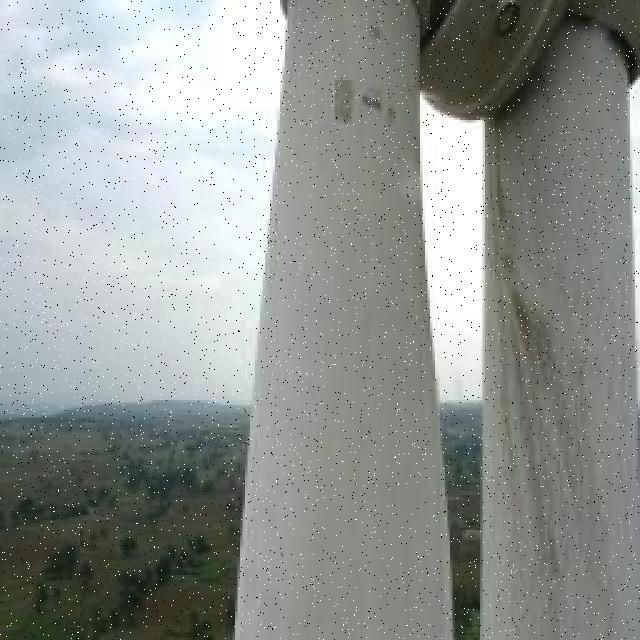Dirt: (482, 64, 640, 639)
Pin Hole: (363, 90, 385, 113)
